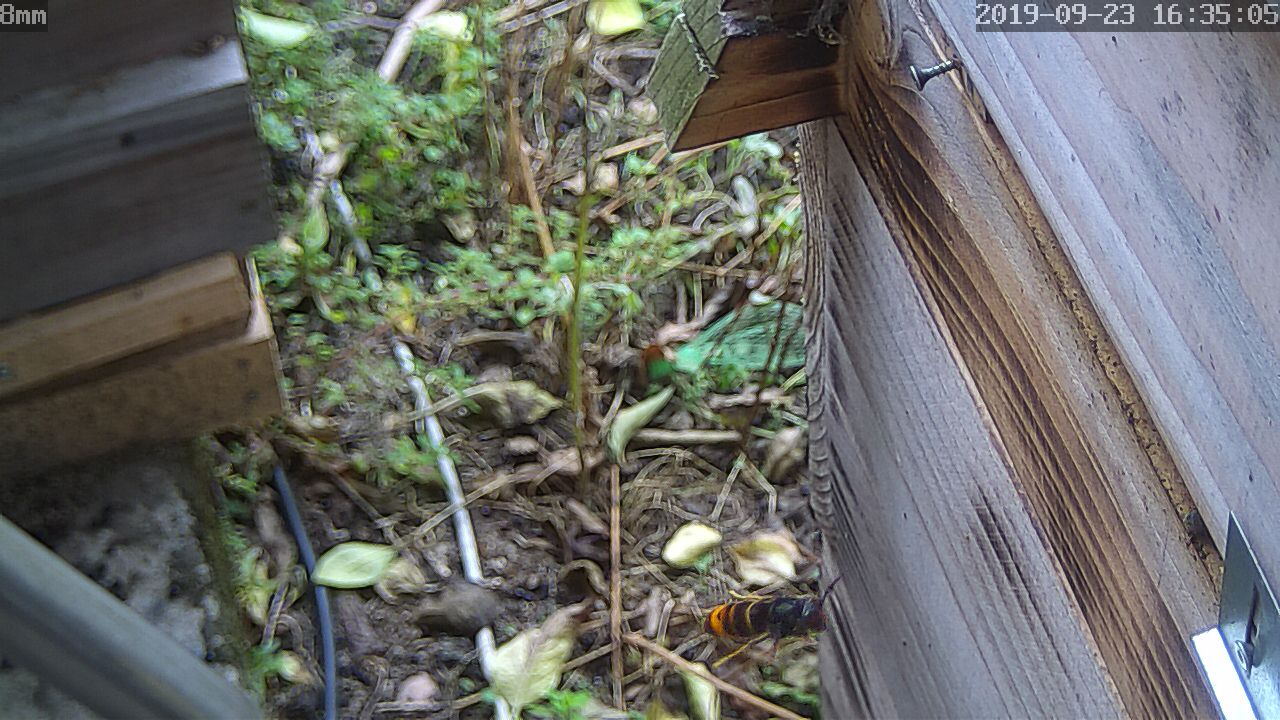hornet: (690, 581, 841, 667)
